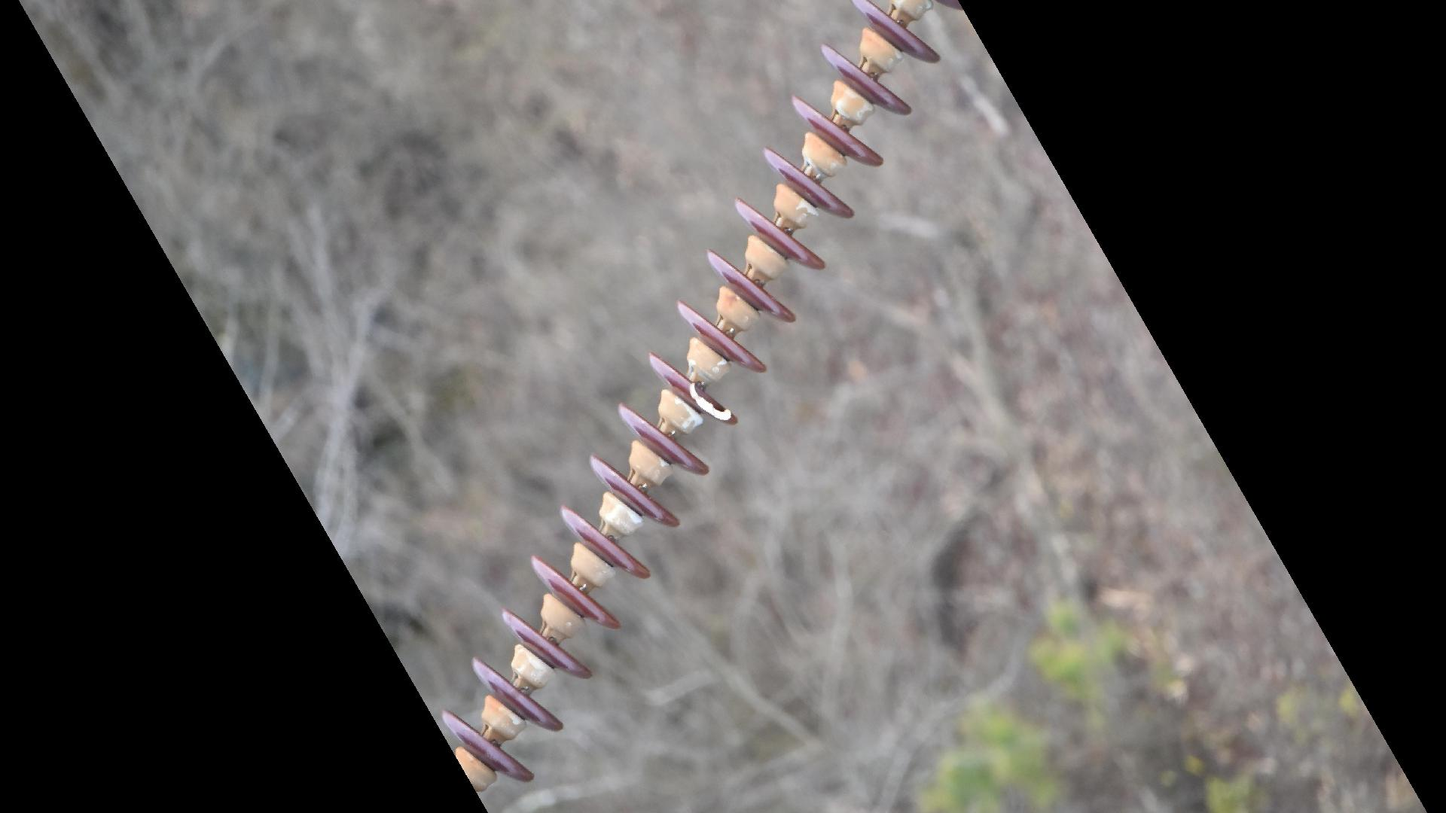insulator: (432, 1, 966, 787)
insulator_breakage: (682, 376, 740, 428)
